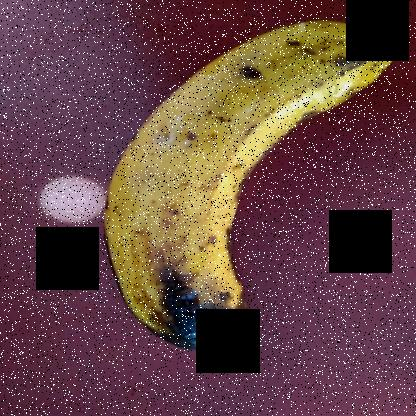rotten: (89, 11, 415, 356)
